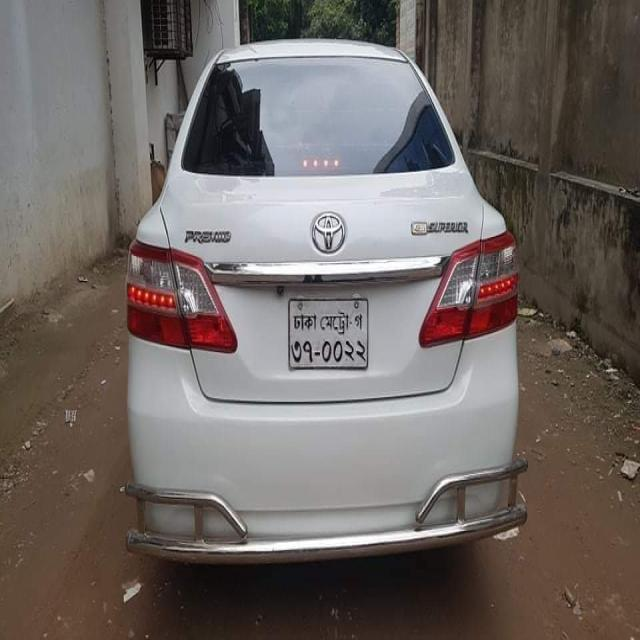white: (119, 23, 531, 609)
